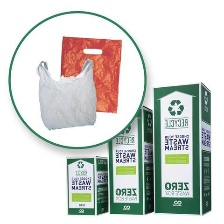plastic_bag: (50, 30, 126, 120), (28, 55, 98, 133)
